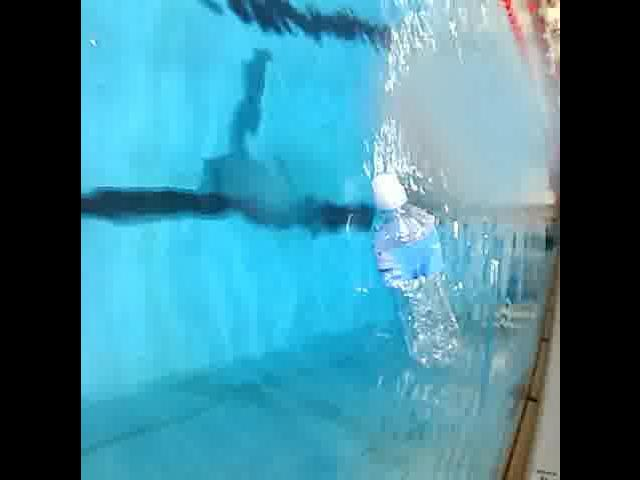Bottle: (362, 167, 466, 368)
